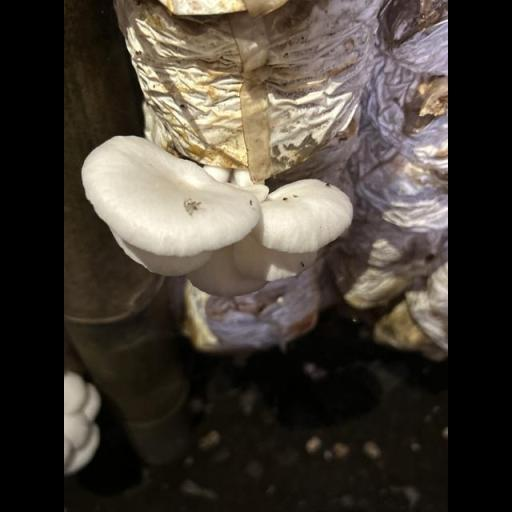White Oyster Mushroom: (87, 134, 349, 292)
